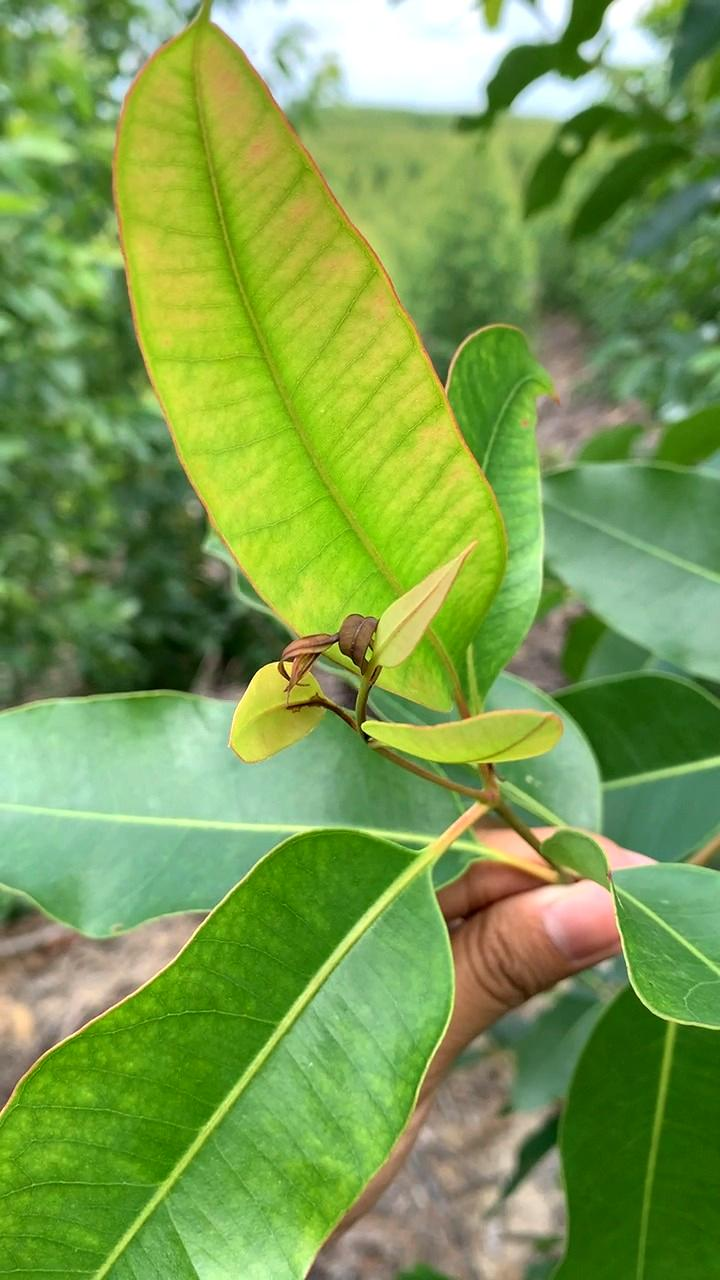Helopeltis-Withered Sprout: (272, 610, 388, 698)
